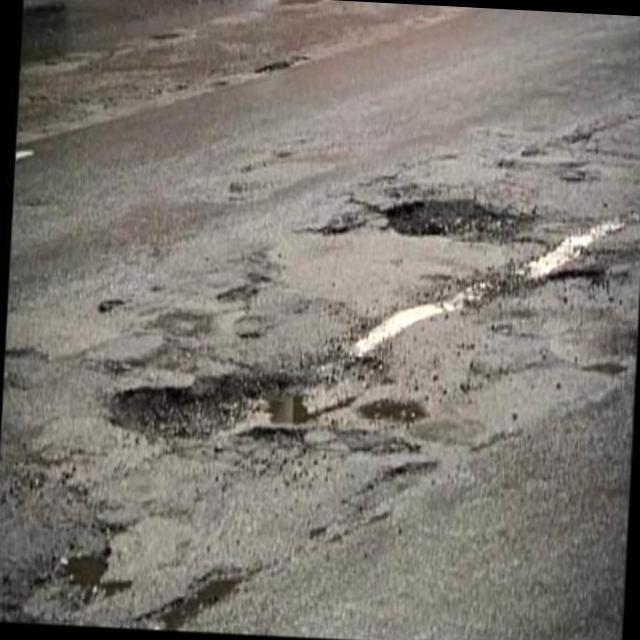Pothole: (78, 183, 638, 542), (130, 556, 290, 629), (56, 498, 157, 602), (0, 465, 69, 538)
